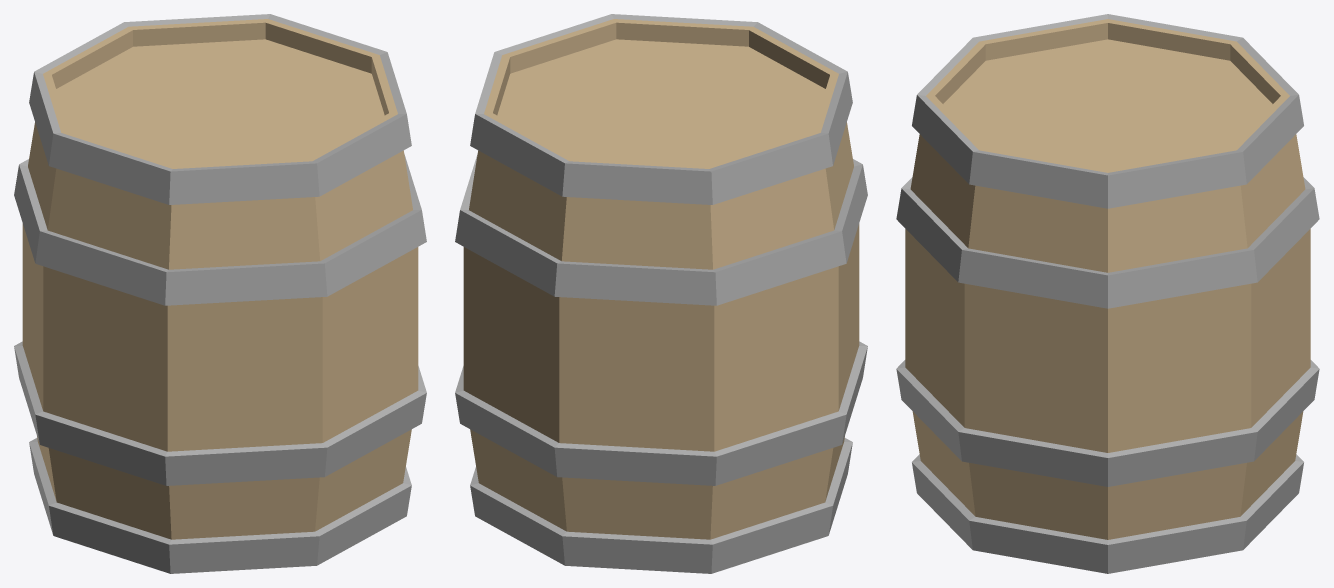
Rendered from Barrel1.fbx.
The picture shows the model from 3 angles, left to right: view 1: azimuth 30°, elevation 25°; view 2: azimuth 150°, elevation 25°; view 3: azimuth 270°, elevation 25°; orthographic projection.
Parts seen in each view (by area): view 1: Cylinder; view 2: Cylinder; view 3: Cylinder.
Boxes of the visible parts, left/top/right/bottom form: Cylinder: left=14, top=14, right=426, bottom=573; Cylinder: left=455, top=14, right=867, bottom=573; Cylinder: left=896, top=14, right=1319, bottom=573.
Size of the model in its own units: 0.9299 by 0.9659 by 0.9299.
